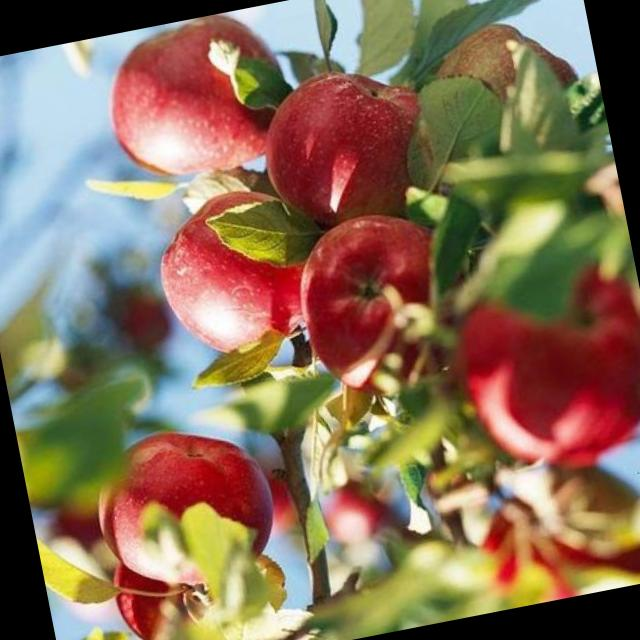Tao: (432, 258, 640, 488), (69, 414, 287, 606), (290, 202, 484, 414), (83, 6, 299, 184), (242, 58, 448, 242), (151, 175, 328, 376)
